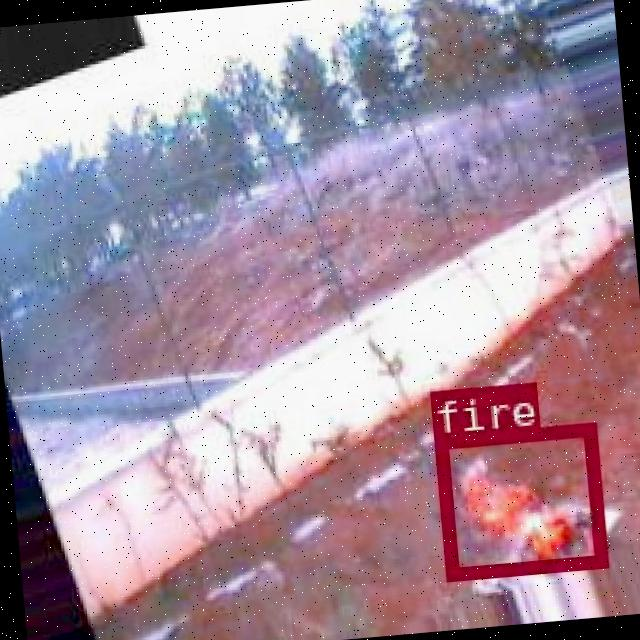fire: (432, 421, 606, 578)
